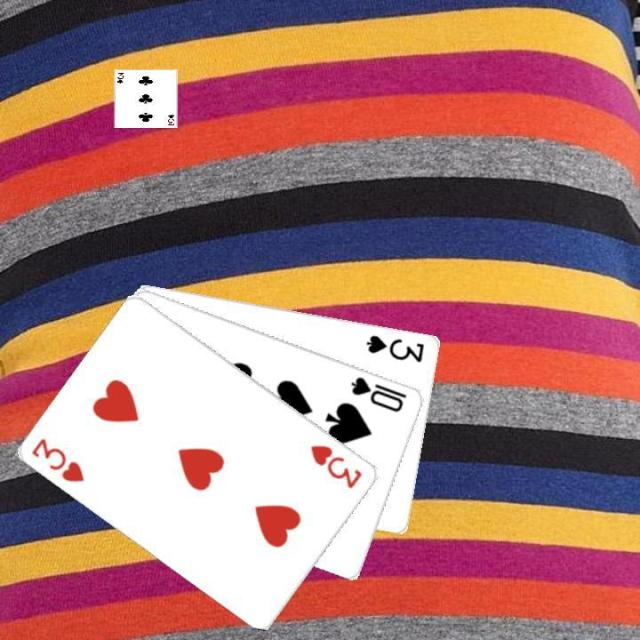10S: (347, 372, 409, 414)
3H: (306, 440, 364, 491), (28, 434, 87, 484)
3S: (362, 331, 427, 364)
